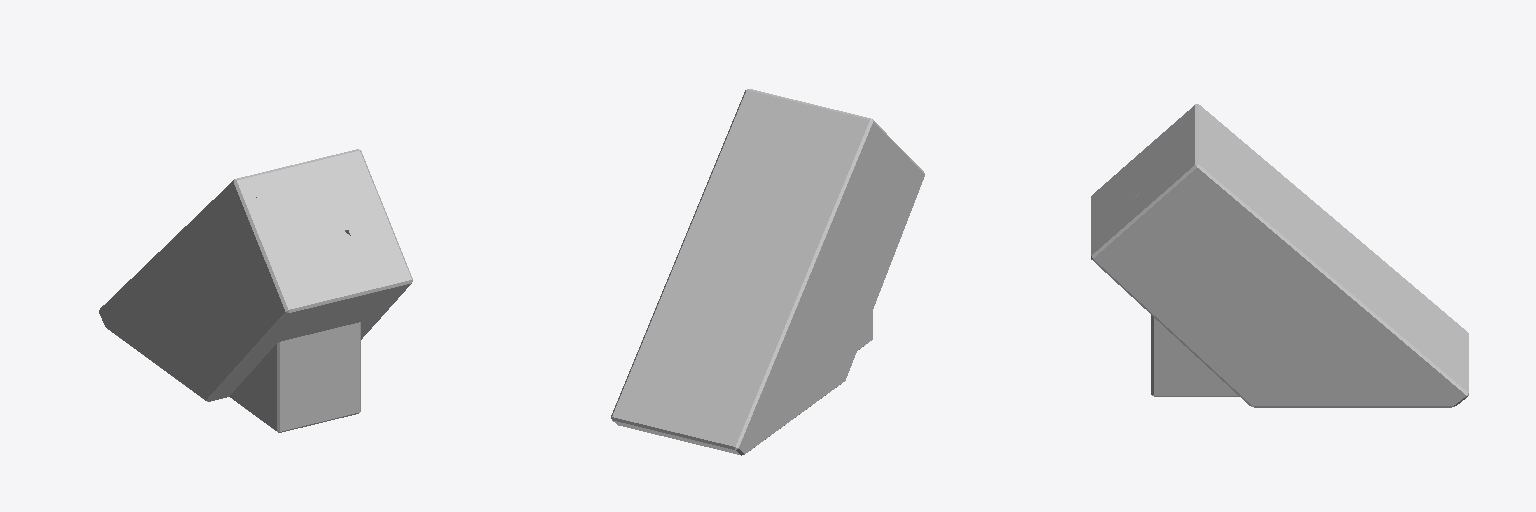
File: Stand.obj
The picture shows the model from 3 angles: view 1: azimuth 30°, elevation 25°; view 2: azimuth 150°, elevation 25°; view 3: azimuth 270°, elevation 25°; orthographic projection.
Visible parts, largest first — view 1: Stand kitchenKnifeStandSet2:Mesh; view 2: Stand kitchenKnifeStandSet2:Mesh; view 3: Stand kitchenKnifeStandSet2:Mesh.
Boxes of the visible parts, x1,y1,x2,y2 form: Stand kitchenKnifeStandSet2:Mesh: [99, 149, 412, 432]; Stand kitchenKnifeStandSet2:Mesh: [611, 89, 924, 455]; Stand kitchenKnifeStandSet2:Mesh: [1091, 104, 1468, 407].
Size of the model in its own units: 9.04 by 16.39 by 23.09.